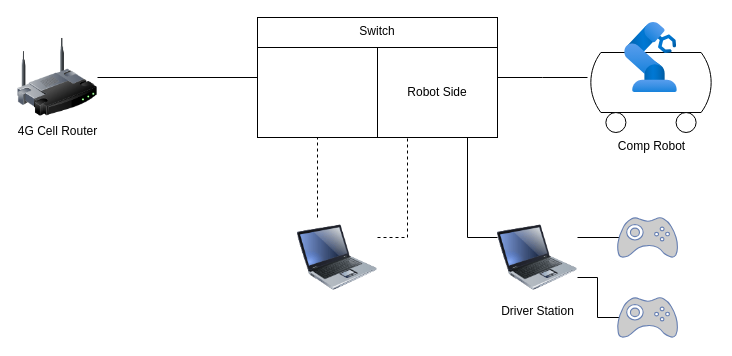
The diagram is 732 pixels wide and 356 high, and some of its shapes have lost their labels. Each missing label, with the centre of its shape:
"Internet Side" belongs at (317,92).
"Programming Laptop" belongs at (337,257).
